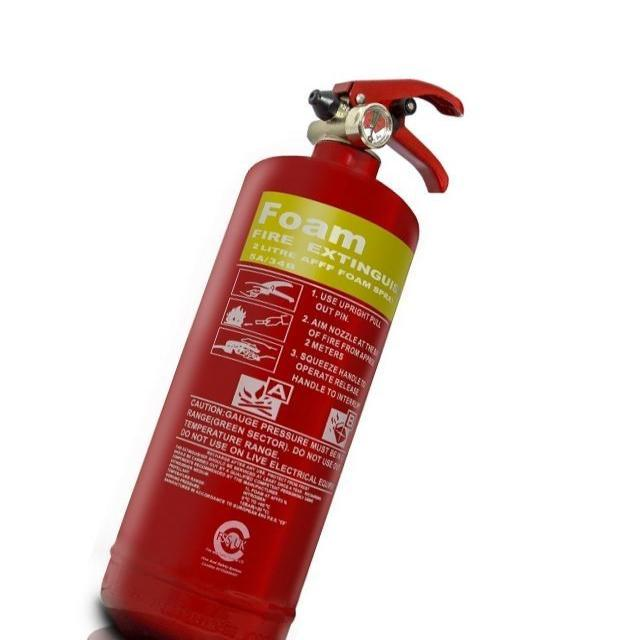fire_extinguisher: (94, 73, 472, 639)
